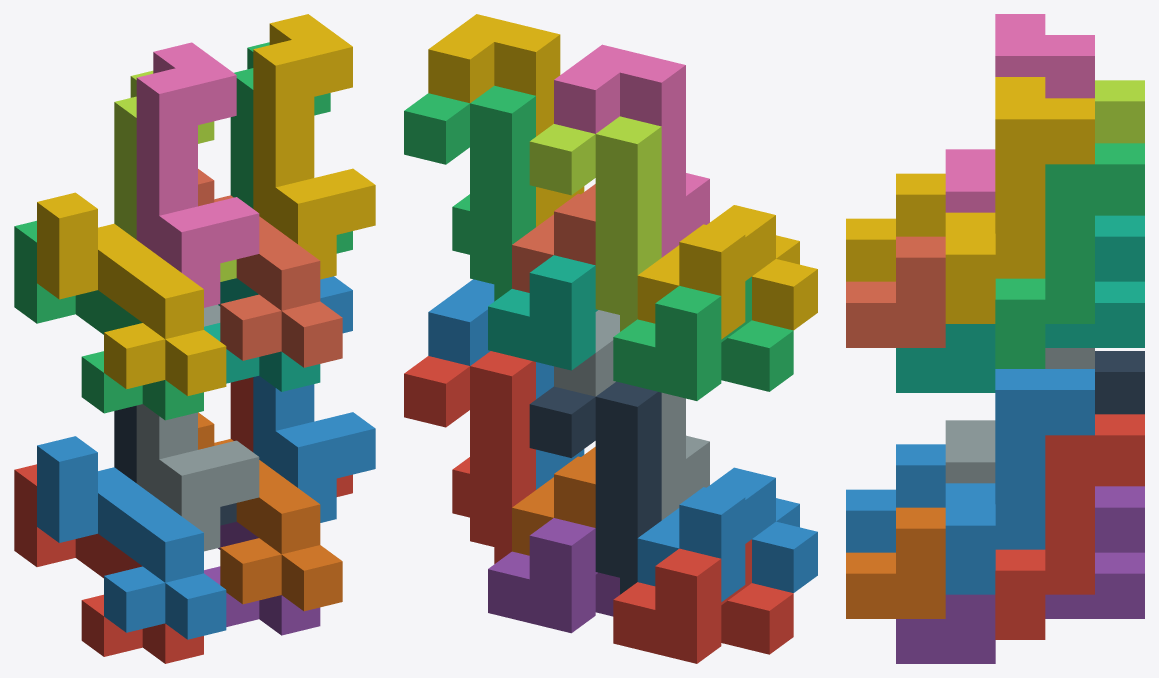
Rendered from tiling.obj.
3 views of the same model, side by side, from view 1: azimuth 30°, elevation 25°; view 2: azimuth 150°, elevation 25°; view 3: azimuth 270°, elevation 25° (orthographic). The views are drawn at different scales.
Visible parts, largest first — view 1: copy_1_domain_4, copy_1_domain_2, copy_2_domain_4, copy_2_domain_8, copy_1_domain_6, copy_1_domain_8, copy_2_domain_6, copy_2_domain_2, copy_1_domain_1, copy_1_domain_3, copy_2_domain_3, copy_2_domain_7 (+4 smaller); view 2: copy_2_domain_7, copy_2_domain_5, copy_2_domain_3, copy_2_domain_1, copy_1_domain_1, copy_1_domain_3, copy_1_domain_2, copy_1_domain_4, copy_2_domain_4, copy_2_domain_8, copy_1_domain_5, copy_1_domain_7 (+4 smaller); view 3: copy_2_domain_8, copy_2_domain_6, copy_2_domain_5, copy_2_domain_7, copy_1_domain_5, copy_1_domain_7, copy_2_domain_4, copy_1_domain_6, copy_1_domain_8, copy_1_domain_2, copy_1_domain_4, copy_2_domain_2 (+2 smaller).
Boxes of the visible parts, x1,y1,x2,y2 form: copy_1_domain_4: (37,192,226,396); copy_1_domain_2: (37,436,226,639); copy_2_domain_4: (136,42,259,307); copy_2_domain_8: (253,14,375,279); copy_1_domain_6: (198,412,342,611); copy_1_domain_8: (198,169,342,367); copy_2_domain_6: (253,276,375,522); copy_2_domain_2: (136,304,259,551); copy_1_domain_1: (14,464,203,663); copy_1_domain_3: (14,220,203,420); copy_2_domain_3: (114,70,236,281); copy_2_domain_7: (230,42,352,253); copy_2_domain_7: (404,85,535,301); copy_2_domain_5: (404,351,535,563); copy_2_domain_3: (529,116,661,331); copy_2_domain_1: (529,381,661,594); copy_1_domain_1: (613,539,793,663); copy_1_domain_3: (613,276,793,400); copy_1_domain_2: (637,467,817,601); copy_1_domain_4: (637,205,817,339); copy_2_domain_4: (554,44,709,257); copy_2_domain_8: (428,14,584,226); copy_1_domain_5: (488,518,619,633); copy_1_domain_7: (488,255,597,370); copy_2_domain_8: (945,77,1094,323); copy_2_domain_6: (945,369,1094,594); copy_2_domain_5: (995,414,1144,639); copy_2_domain_7: (995,143,1144,368); copy_1_domain_5: (896,486,1144,663); copy_1_domain_7: (896,215,1144,392); copy_2_domain_4: (945,14,1094,212); copy_1_domain_6: (846,507,945,618); copy_1_domain_8: (846,236,945,347); copy_1_domain_2: (846,444,945,552); copy_1_domain_4: (846,173,945,281); copy_2_domain_2: (945,348,1094,483).
Bounding box in the file's own units: 7 × 13 × 6.
